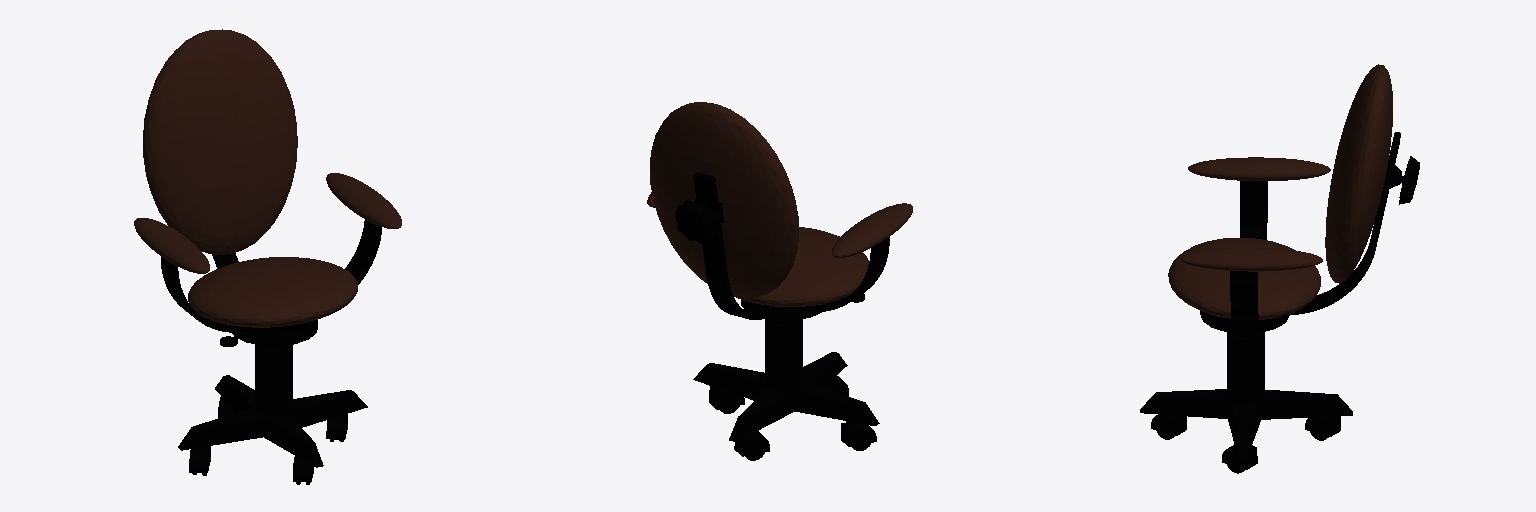
Rendered from Белый офисный стул.obj.
3 renders of one model, left to right at view 1: azimuth 30°, elevation 25°; view 2: azimuth 150°, elevation 25°; view 3: azimuth 270°, elevation 25°, orthographic.
Visible parts, largest first — view 1: chair_cus5_44_44, chair_cus6_45_45, Circle32_47_47, chair_cus3_42_42, chair_cus4_43_43, Line11_38_38, Line12_39_39, Line14_41_41, Line10_35_35, Rectangle3_34_34, Rectangle2_32_32, Line13_40_40 (+1 smaller); view 2: chair_cus5_44_44, chair_cus6_45_45, Back_supp0_33_33, Circle32_47_47, chair_cus4_43_43, Line11_38_38, Line13_40_40, Line12_39_39, Rectangle2_32_32, Line14_41_41, Line08_16_16, Line10_35_35 (+2 smaller); view 3: chair_cus5_44_44, chair_cus6_45_45, chair_cus4_43_43, chair_cus3_42_42, Circle32_47_47, Line13_40_40, Line14_41_41, Back_supp0_33_33, Rectangle3_34_34, Rectangle2_32_32, Line12_39_39, Line10_35_35 (+3 smaller).
Part boxes in pixels (left/top/right/bottom): chair_cus5_44_44: left=143, top=29, right=297, bottom=254; chair_cus6_45_45: left=188, top=257, right=357, bottom=327; Circle32_47_47: left=255, top=345, right=292, bottom=417; chair_cus3_42_42: left=326, top=173, right=401, bottom=228; chair_cus4_43_43: left=134, top=218, right=209, bottom=273; Line11_38_38: left=178, top=408, right=264, bottom=450; Line12_39_39: left=291, top=390, right=367, bottom=427; Line14_41_41: left=263, top=413, right=323, bottom=467; Line10_35_35: left=232, top=320, right=317, bottom=346; Rectangle3_34_34: left=345, top=219, right=381, bottom=284; Rectangle2_32_32: left=161, top=257, right=239, bottom=332; Line13_40_40: left=215, top=375, right=254, bottom=412; chair_cus5_44_44: left=650, top=102, right=798, bottom=297; chair_cus6_45_45: left=736, top=227, right=868, bottom=306; Back_supp0_33_33: left=693, top=172, right=771, bottom=319; Circle32_47_47: left=765, top=319, right=802, bottom=393; chair_cus4_43_43: left=832, top=203, right=912, bottom=257; Line11_38_38: left=790, top=383, right=879, bottom=425; Line13_40_40: left=729, top=388, right=794, bottom=441; Line12_39_39: left=693, top=363, right=764, bottom=400; Rectangle2_32_32: left=809, top=237, right=889, bottom=311; Line14_41_41: left=803, top=352, right=847, bottom=387; Line08_16_16: left=841, top=422, right=876, bottom=446; Line10_35_35: left=741, top=300, right=821, bottom=320; chair_cus5_44_44: left=1325, top=64, right=1392, bottom=283; chair_cus6_45_45: left=1168, top=238, right=1320, bottom=319; chair_cus4_43_43: left=1188, top=157, right=1330, bottom=180; chair_cus3_42_42: left=1180, top=248, right=1322, bottom=271; Circle32_47_47: left=1227, top=332, right=1264, bottom=413; Line13_40_40: left=1261, top=390, right=1352, bottom=419; Line14_41_41: left=1140, top=389, right=1228, bottom=418; Back_supp0_33_33: left=1288, top=132, right=1400, bottom=314; Rectangle3_34_34: left=1230, top=271, right=1260, bottom=329; Rectangle2_32_32: left=1240, top=181, right=1267, bottom=239; Line12_39_39: left=1228, top=403, right=1260, bottom=458; Line10_35_35: left=1200, top=311, right=1289, bottom=333.
Bounding box in the file's own units: 62.88 × 101 × 68.8.